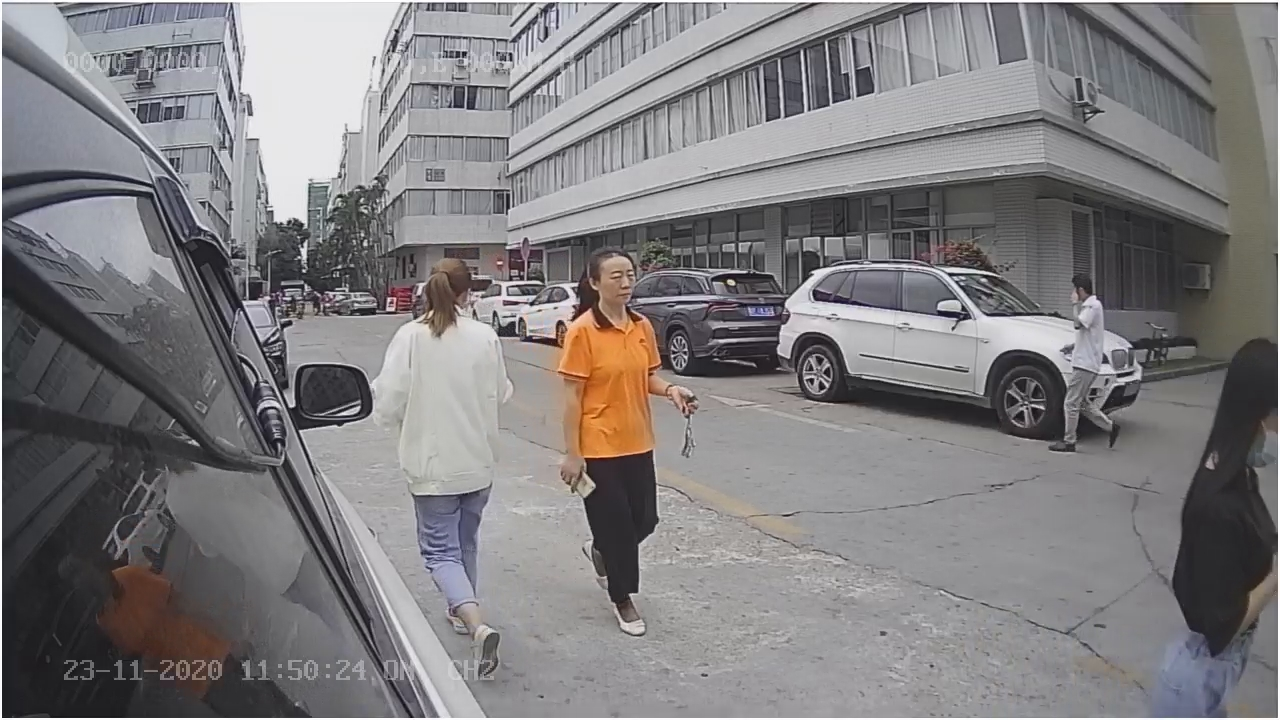person: (555, 233, 699, 636), (373, 258, 521, 459), (1038, 271, 1121, 454)
